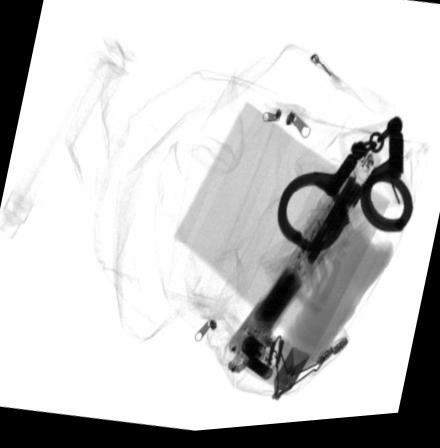Baton: (225, 144, 382, 376)
HandCuffs: (275, 121, 413, 272)
